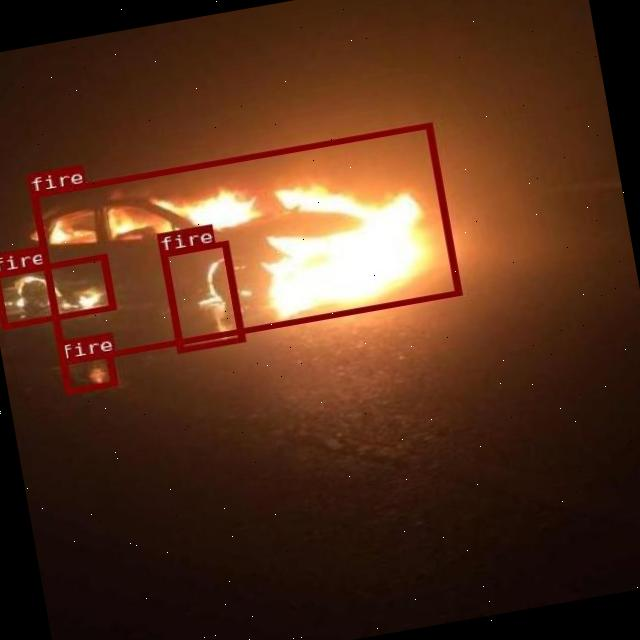fire: (29, 121, 460, 364), (160, 239, 243, 351), (0, 253, 115, 327), (59, 350, 116, 393)
